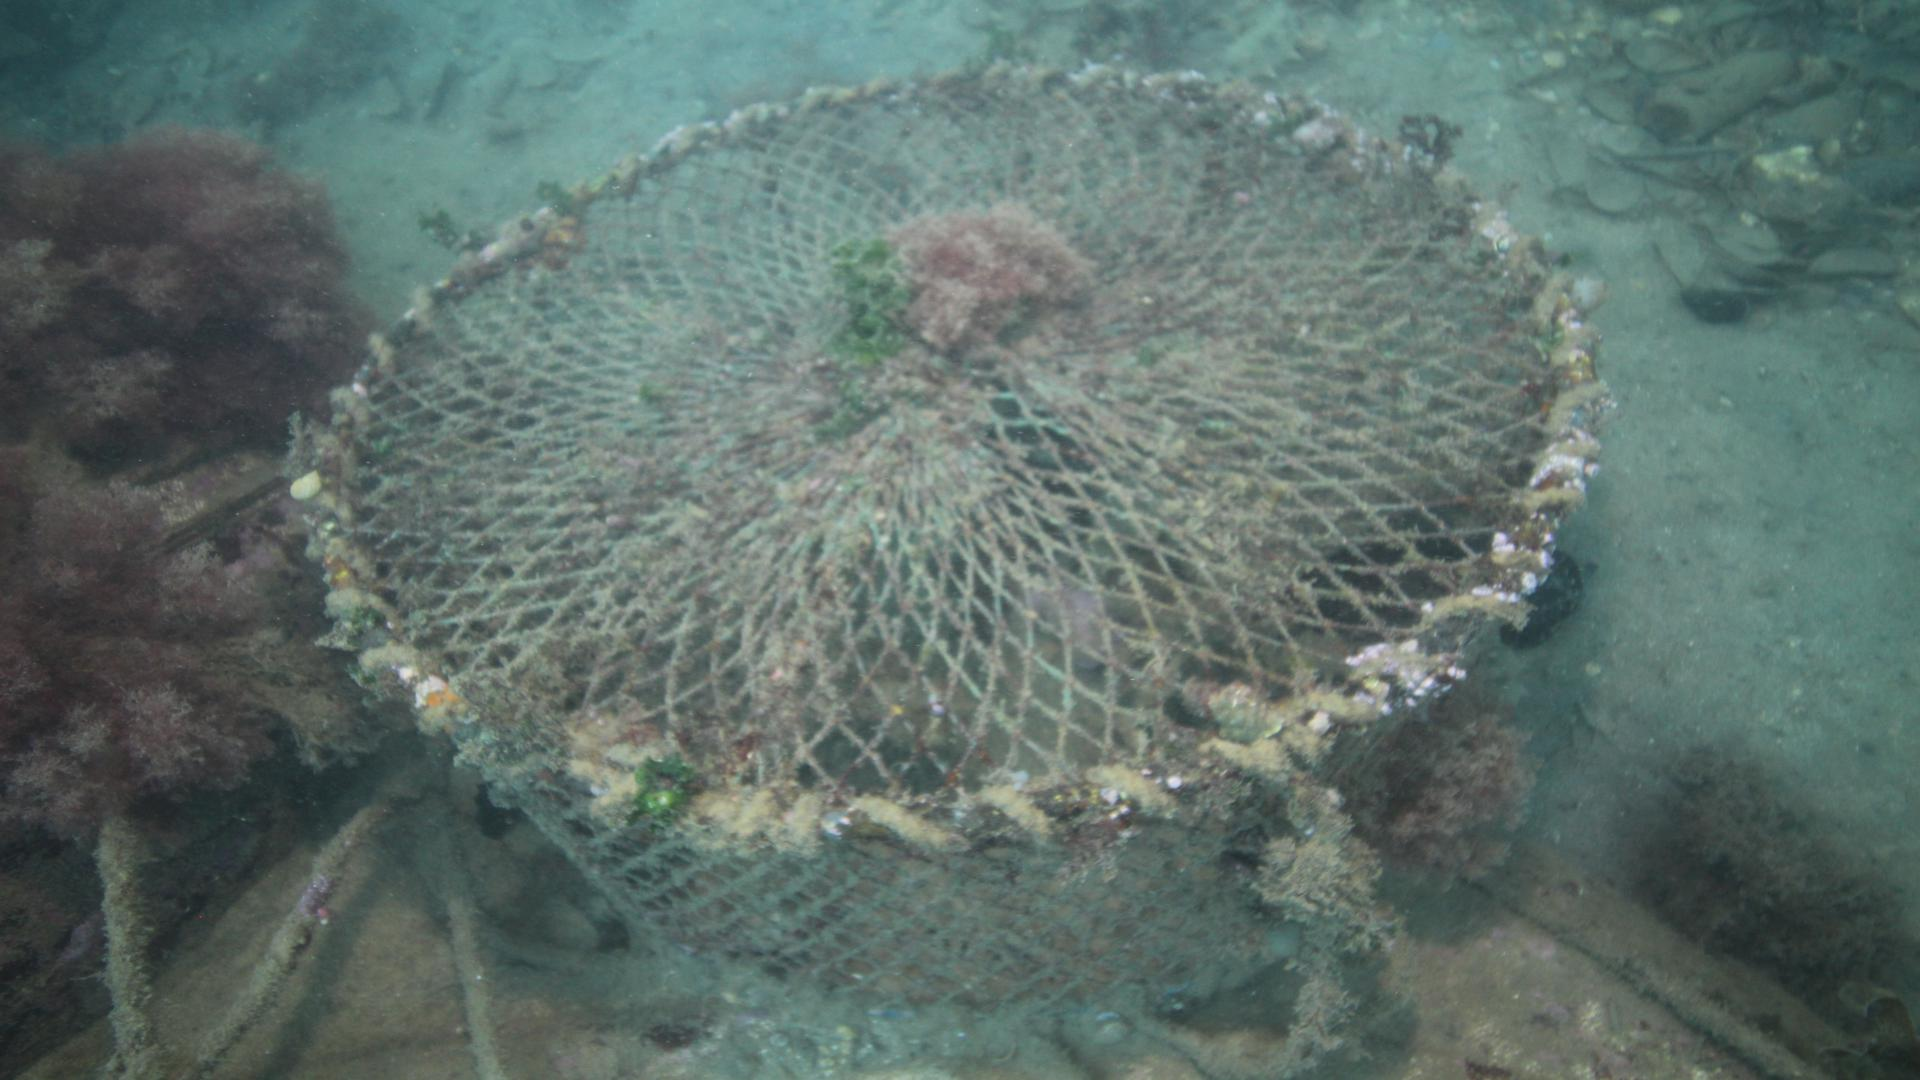circular fish trap: (301, 53, 1596, 994)
